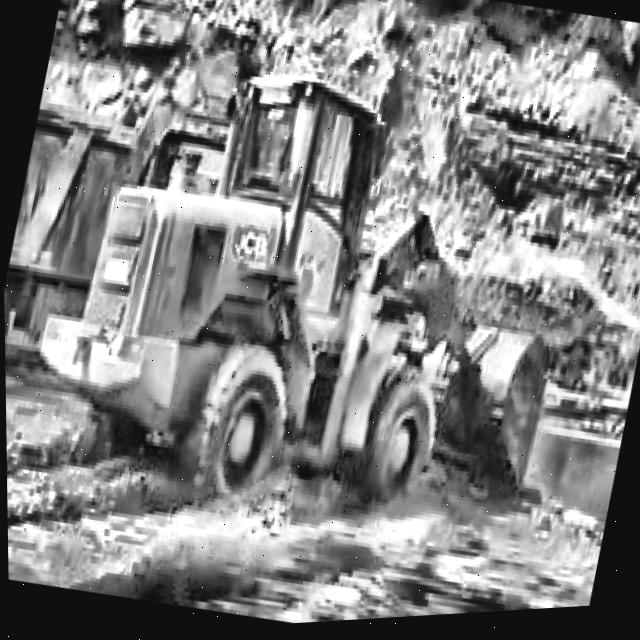buldozerpayloadergrader: (44, 28, 604, 568)
dump_truck: (1, 67, 129, 368)
